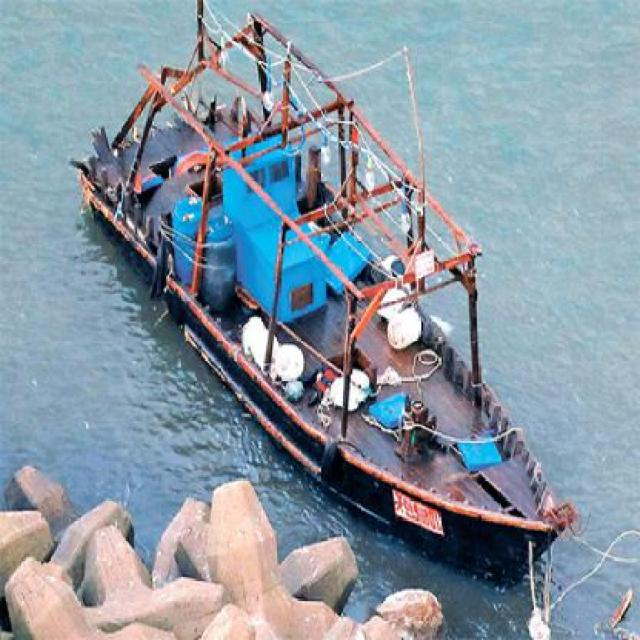fish-b: (67, 1, 581, 601)
